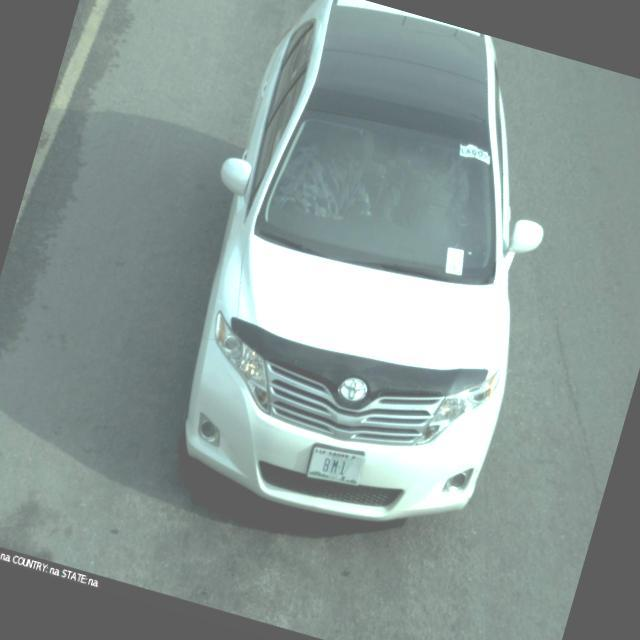windshield: (248, 98, 510, 298)
